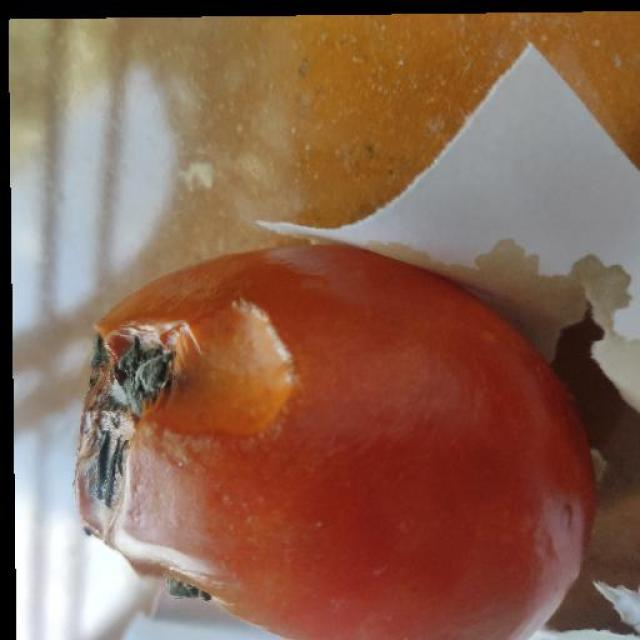Stale_tomato: (61, 248, 612, 640)
